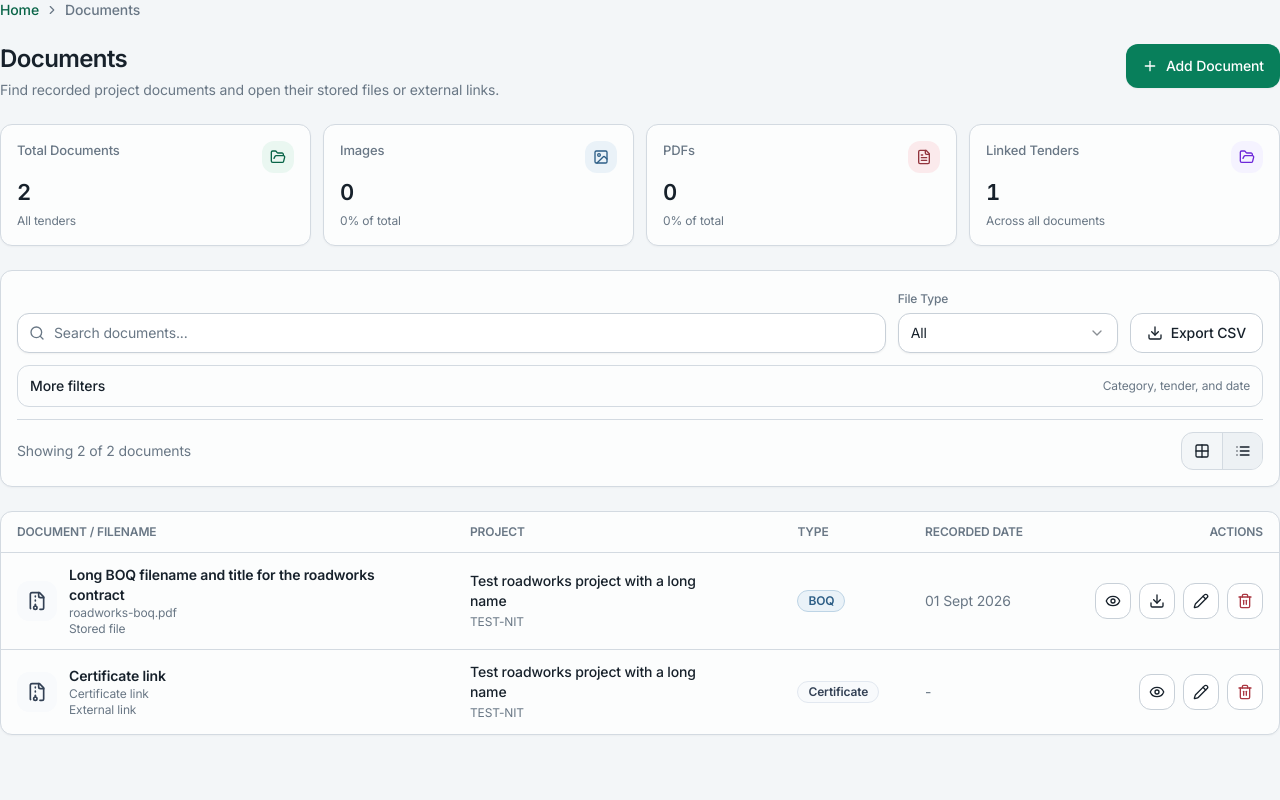
Test: Documents workflows on disposable records › preserves entered metadata and the original stored reference when the record update fails
The width and height of the screenshot is (1280, 800).
Click the button named "Edit document" in the row of "roadworks-boq.pdf" at (1201, 600), box [1183,582,1219,618]
(page scrolled)
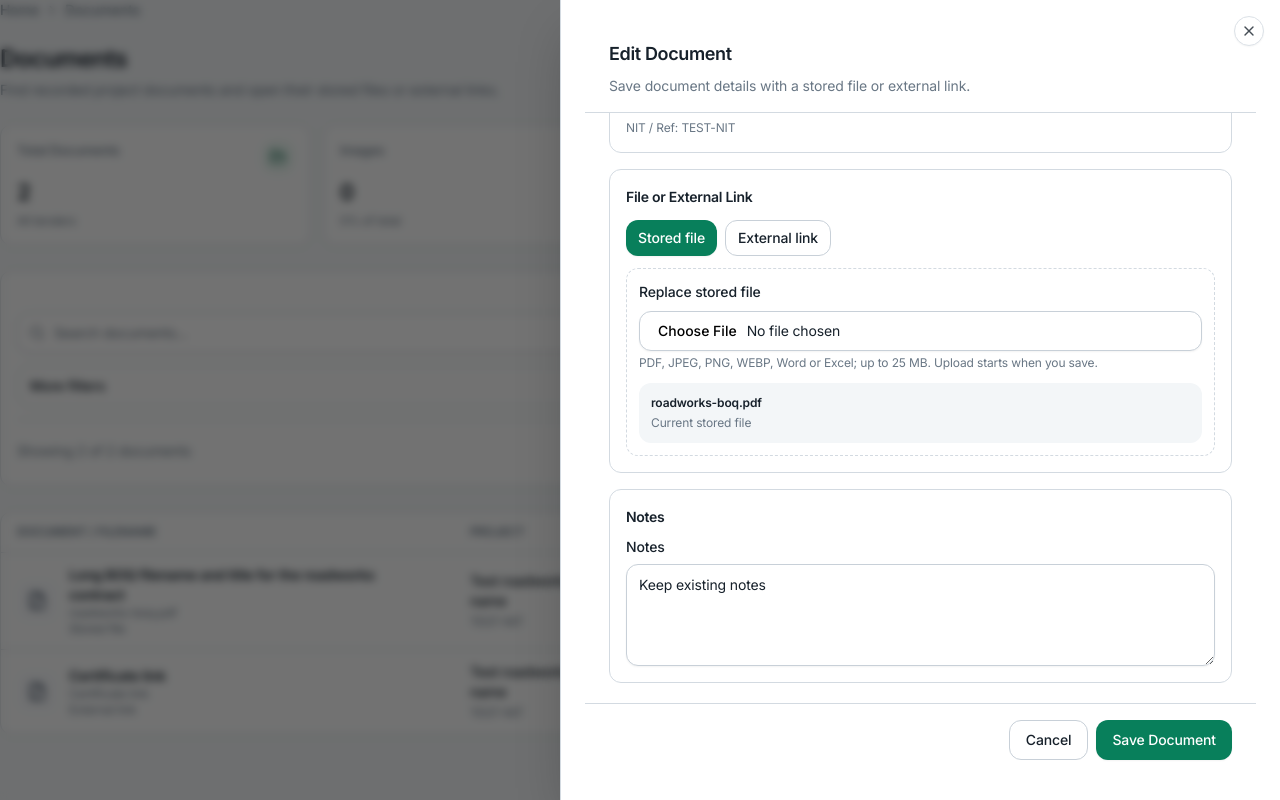
Type " - reviewed" into the text box labelled "Notes" at (920, 615), box [626,564,1215,666]
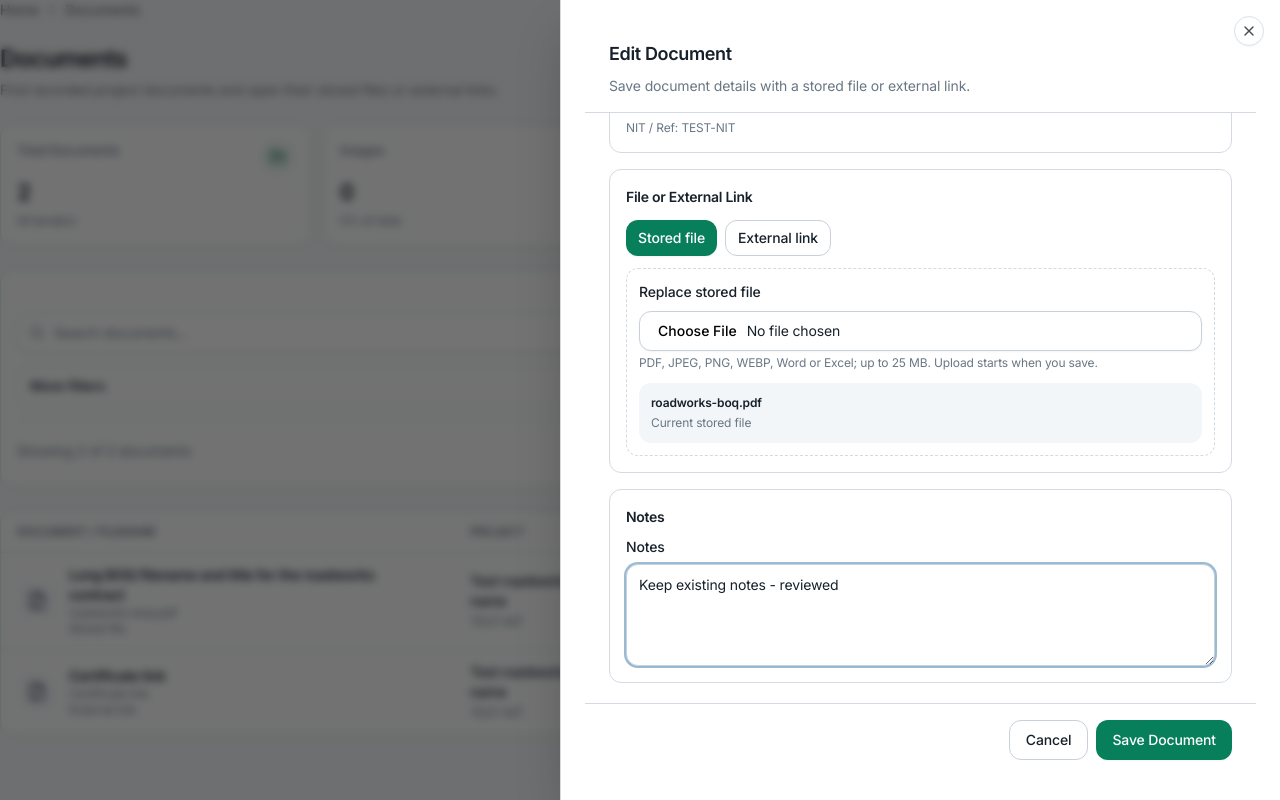
Click the button "Save Document" at (1164, 740), box [1096,720,1232,760]
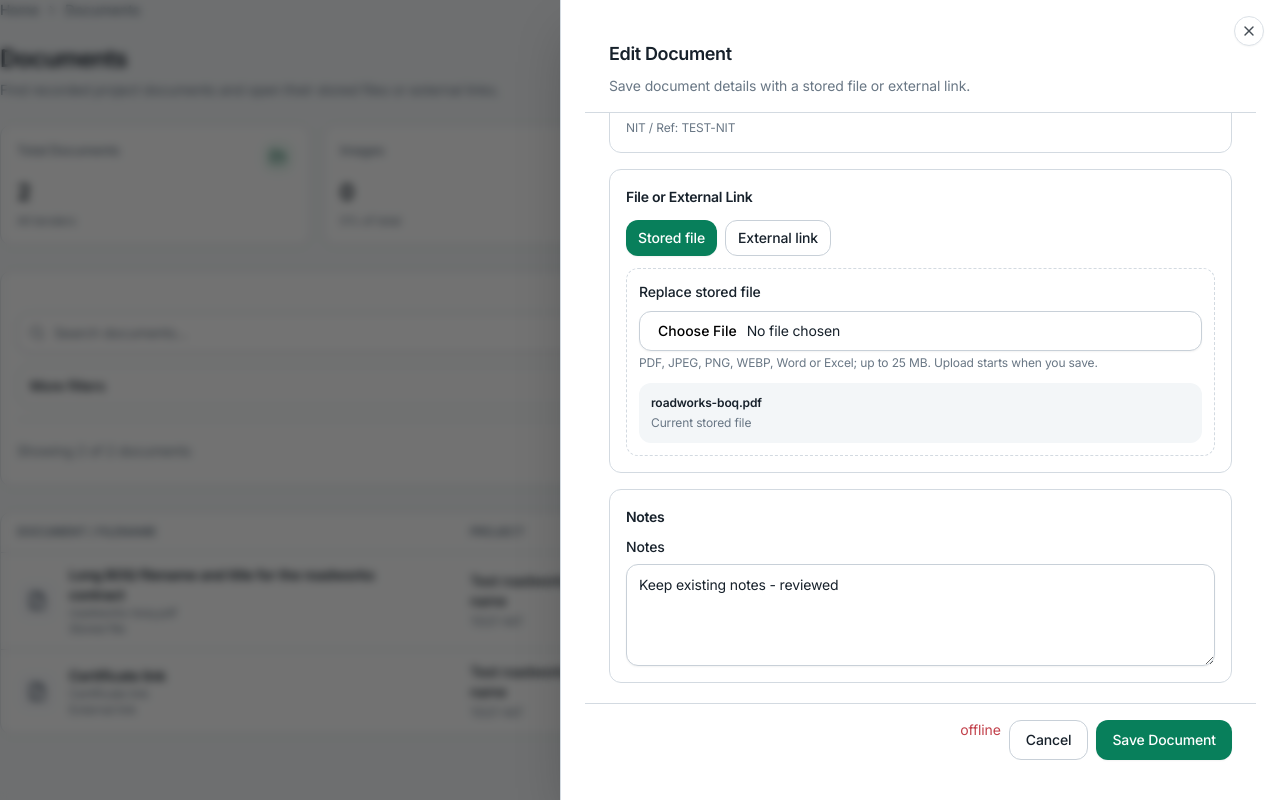
Expected: the text box labelled "Notes" holds "Keep existing notes - reviewed", [626,564,1215,666]
Expected: the message reads "offline", [960,721,1001,738]
